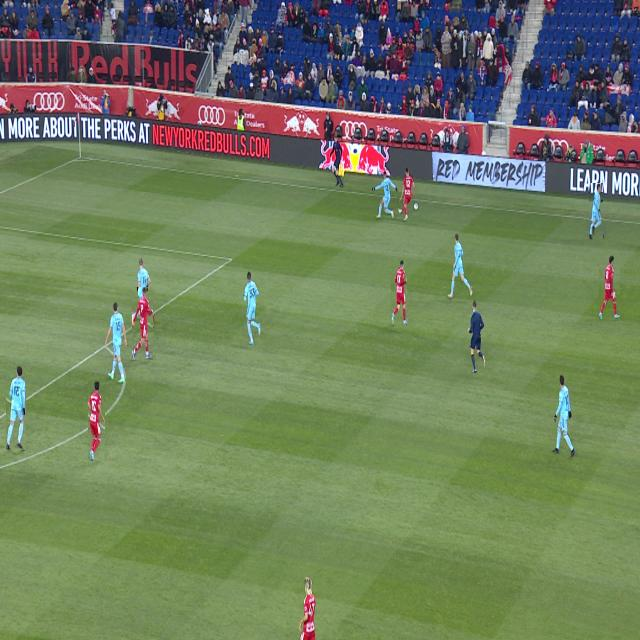football: (414, 203, 418, 210)
player: (552, 375, 575, 458), (105, 301, 127, 383), (447, 232, 472, 299), (6, 367, 26, 450), (132, 288, 153, 360), (88, 381, 105, 461), (599, 256, 620, 320), (243, 271, 261, 345), (372, 171, 398, 219), (299, 576, 316, 640), (392, 260, 407, 325), (398, 168, 415, 222), (590, 184, 603, 240), (137, 258, 151, 300), (149, 313, 154, 325), (144, 310, 148, 318)
referee: (468, 300, 485, 372)
